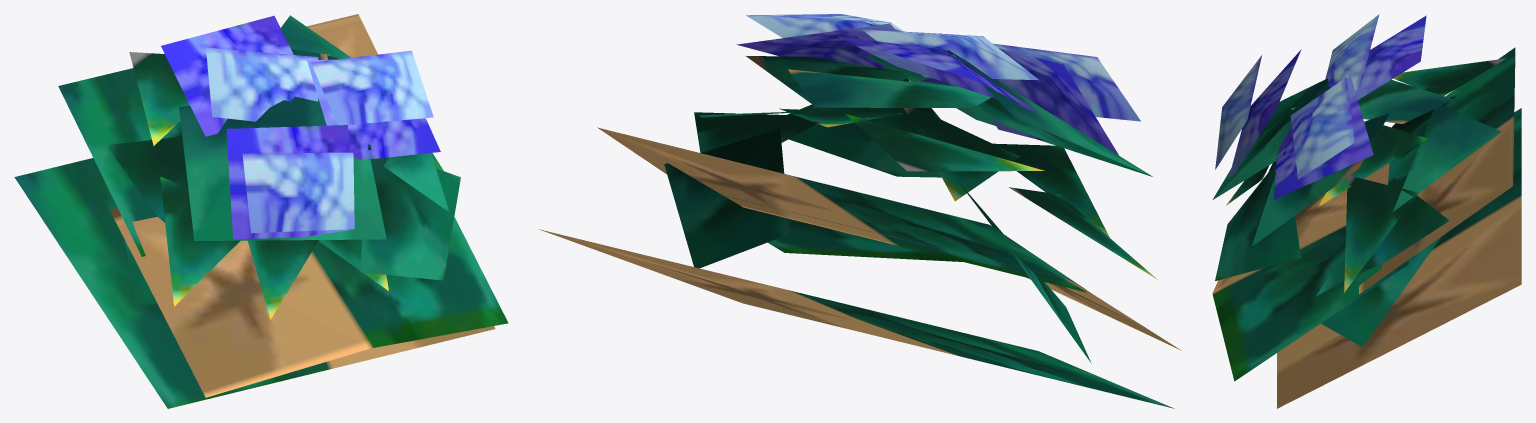
File: fg_bushC_2_bl.dae
The picture shows the model from 3 angles, left to right: view 1: azimuth 30°, elevation 25°; view 2: azimuth 150°, elevation 25°; view 3: azimuth 270°, elevation 25°; orthographic projection. The views are drawn at different scales.
Visible parts, largest first — view 1: fg_bushC_2_bl; view 2: fg_bushC_2_bl; view 3: fg_bushC_2_bl.
Boxes of the visible parts, x1,y1,x2,y2 form: fg_bushC_2_bl: (14, 14, 508, 408); fg_bushC_2_bl: (539, 14, 1181, 408); fg_bushC_2_bl: (1212, 14, 1521, 408).
Size of the model in its own units: 47.83 by 36.01 by 35.4.
1 material, 1 textured.
